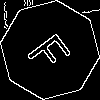F: (25, 25, 80, 77)
